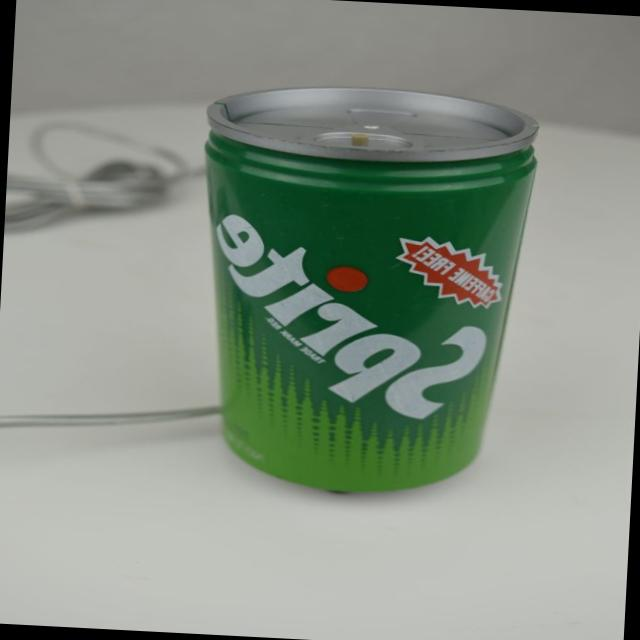sprite: (162, 84, 557, 522)
